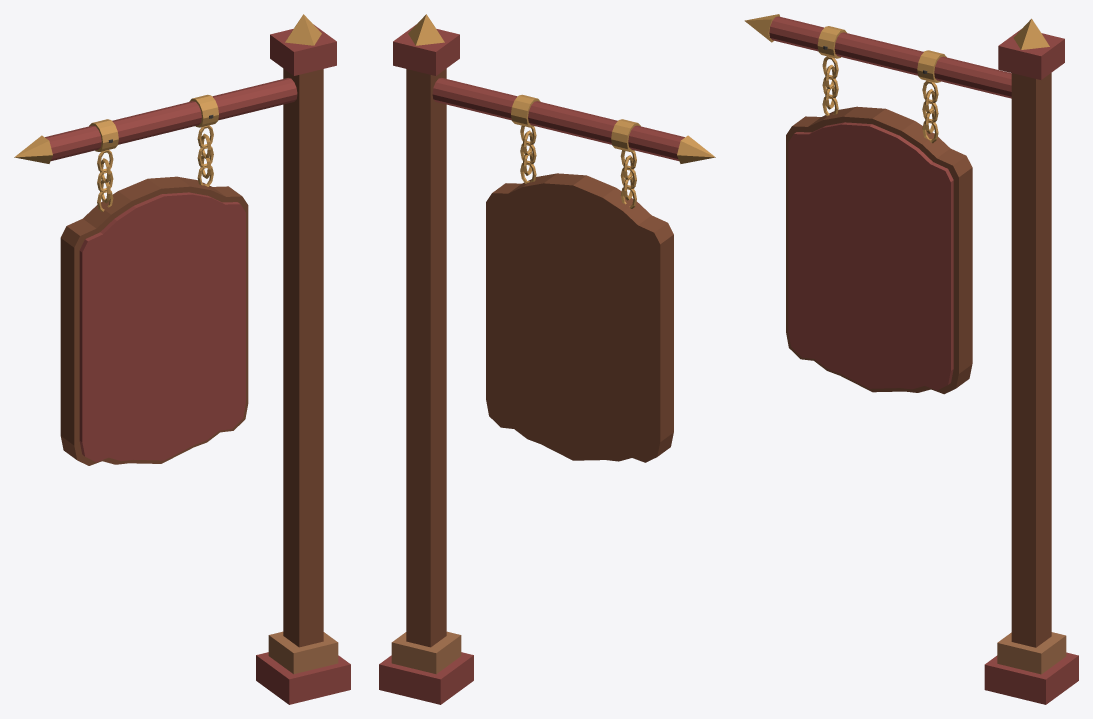
File: Shop_Sign.fbx
3 renders of one model, left to right at view 1: azimuth 30°, elevation 25°; view 2: azimuth 150°, elevation 25°; view 3: azimuth 330°, elevation 25°, orthographic.
Visible parts, largest first — view 1: Frente rojo; view 2: Frente rojo; view 3: Frente rojo.
Boxes of the visible parts, box(x1,y1,x2,y2) form: Frente rojo: box(14, 14, 350, 704); Frente rojo: box(379, 14, 715, 704); Frente rojo: box(744, 14, 1078, 704).
Bounding box in the file's own units: 223 × 447 × 40.
